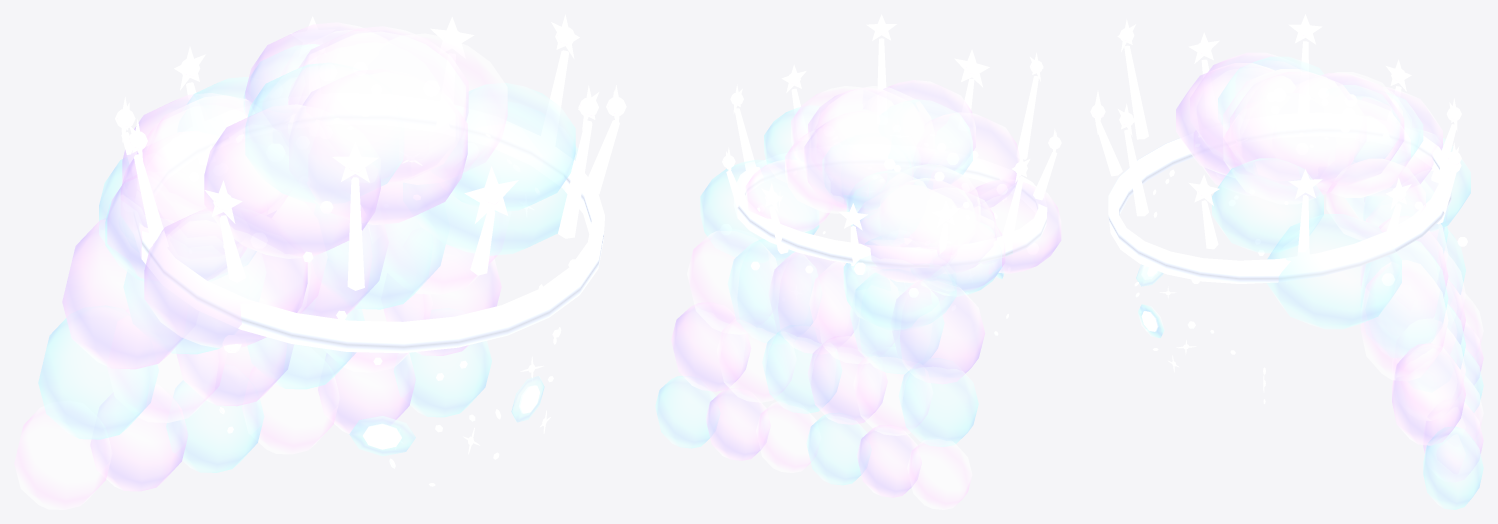
Rendered from astrael_head.glb.
The picture shows the model from 3 angles, left to right: view 1: azimuth 30°, elevation 25°; view 2: azimuth 150°, elevation 25°; view 3: azimuth 270°, elevation 25°; orthographic projection. The views are drawn at different scales.
Parts seen in each view (by area): view 1: astrael_head; view 2: astrael_head; view 3: astrael_head.
Part boxes in pixels (box(x1,y1,x2,y2)): astrael_head: box(14, 14, 626, 509); astrael_head: box(655, 14, 1061, 509); astrael_head: box(1090, 14, 1483, 509).
Size of the model in its own units: 1.31 by 1.35 by 1.28.
